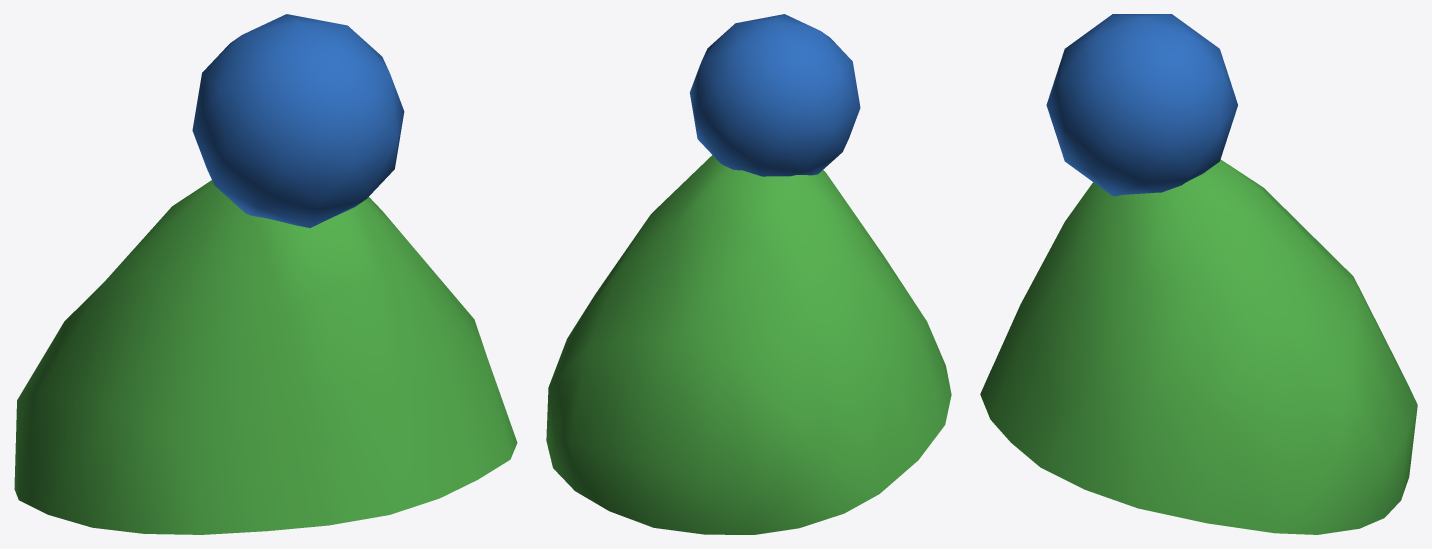
The model's file is Thief_hat.fbx.
3 views of the same model, side by side, from view 1: azimuth 30°, elevation 25°; view 2: azimuth 150°, elevation 25°; view 3: azimuth 270°, elevation 25° (orthographic). The views are drawn at different scales.
Parts seen in each view (by area): view 1: Thief_hat; view 2: Thief_hat; view 3: Thief_hat.
Boxes of the visible parts, x1,y1,x2,y2 form: Thief_hat: [14, 14, 517, 534]; Thief_hat: [546, 14, 951, 534]; Thief_hat: [980, 14, 1417, 534].
Bounding box in the file's own units: 58.74 × 67.9 × 58.69.
